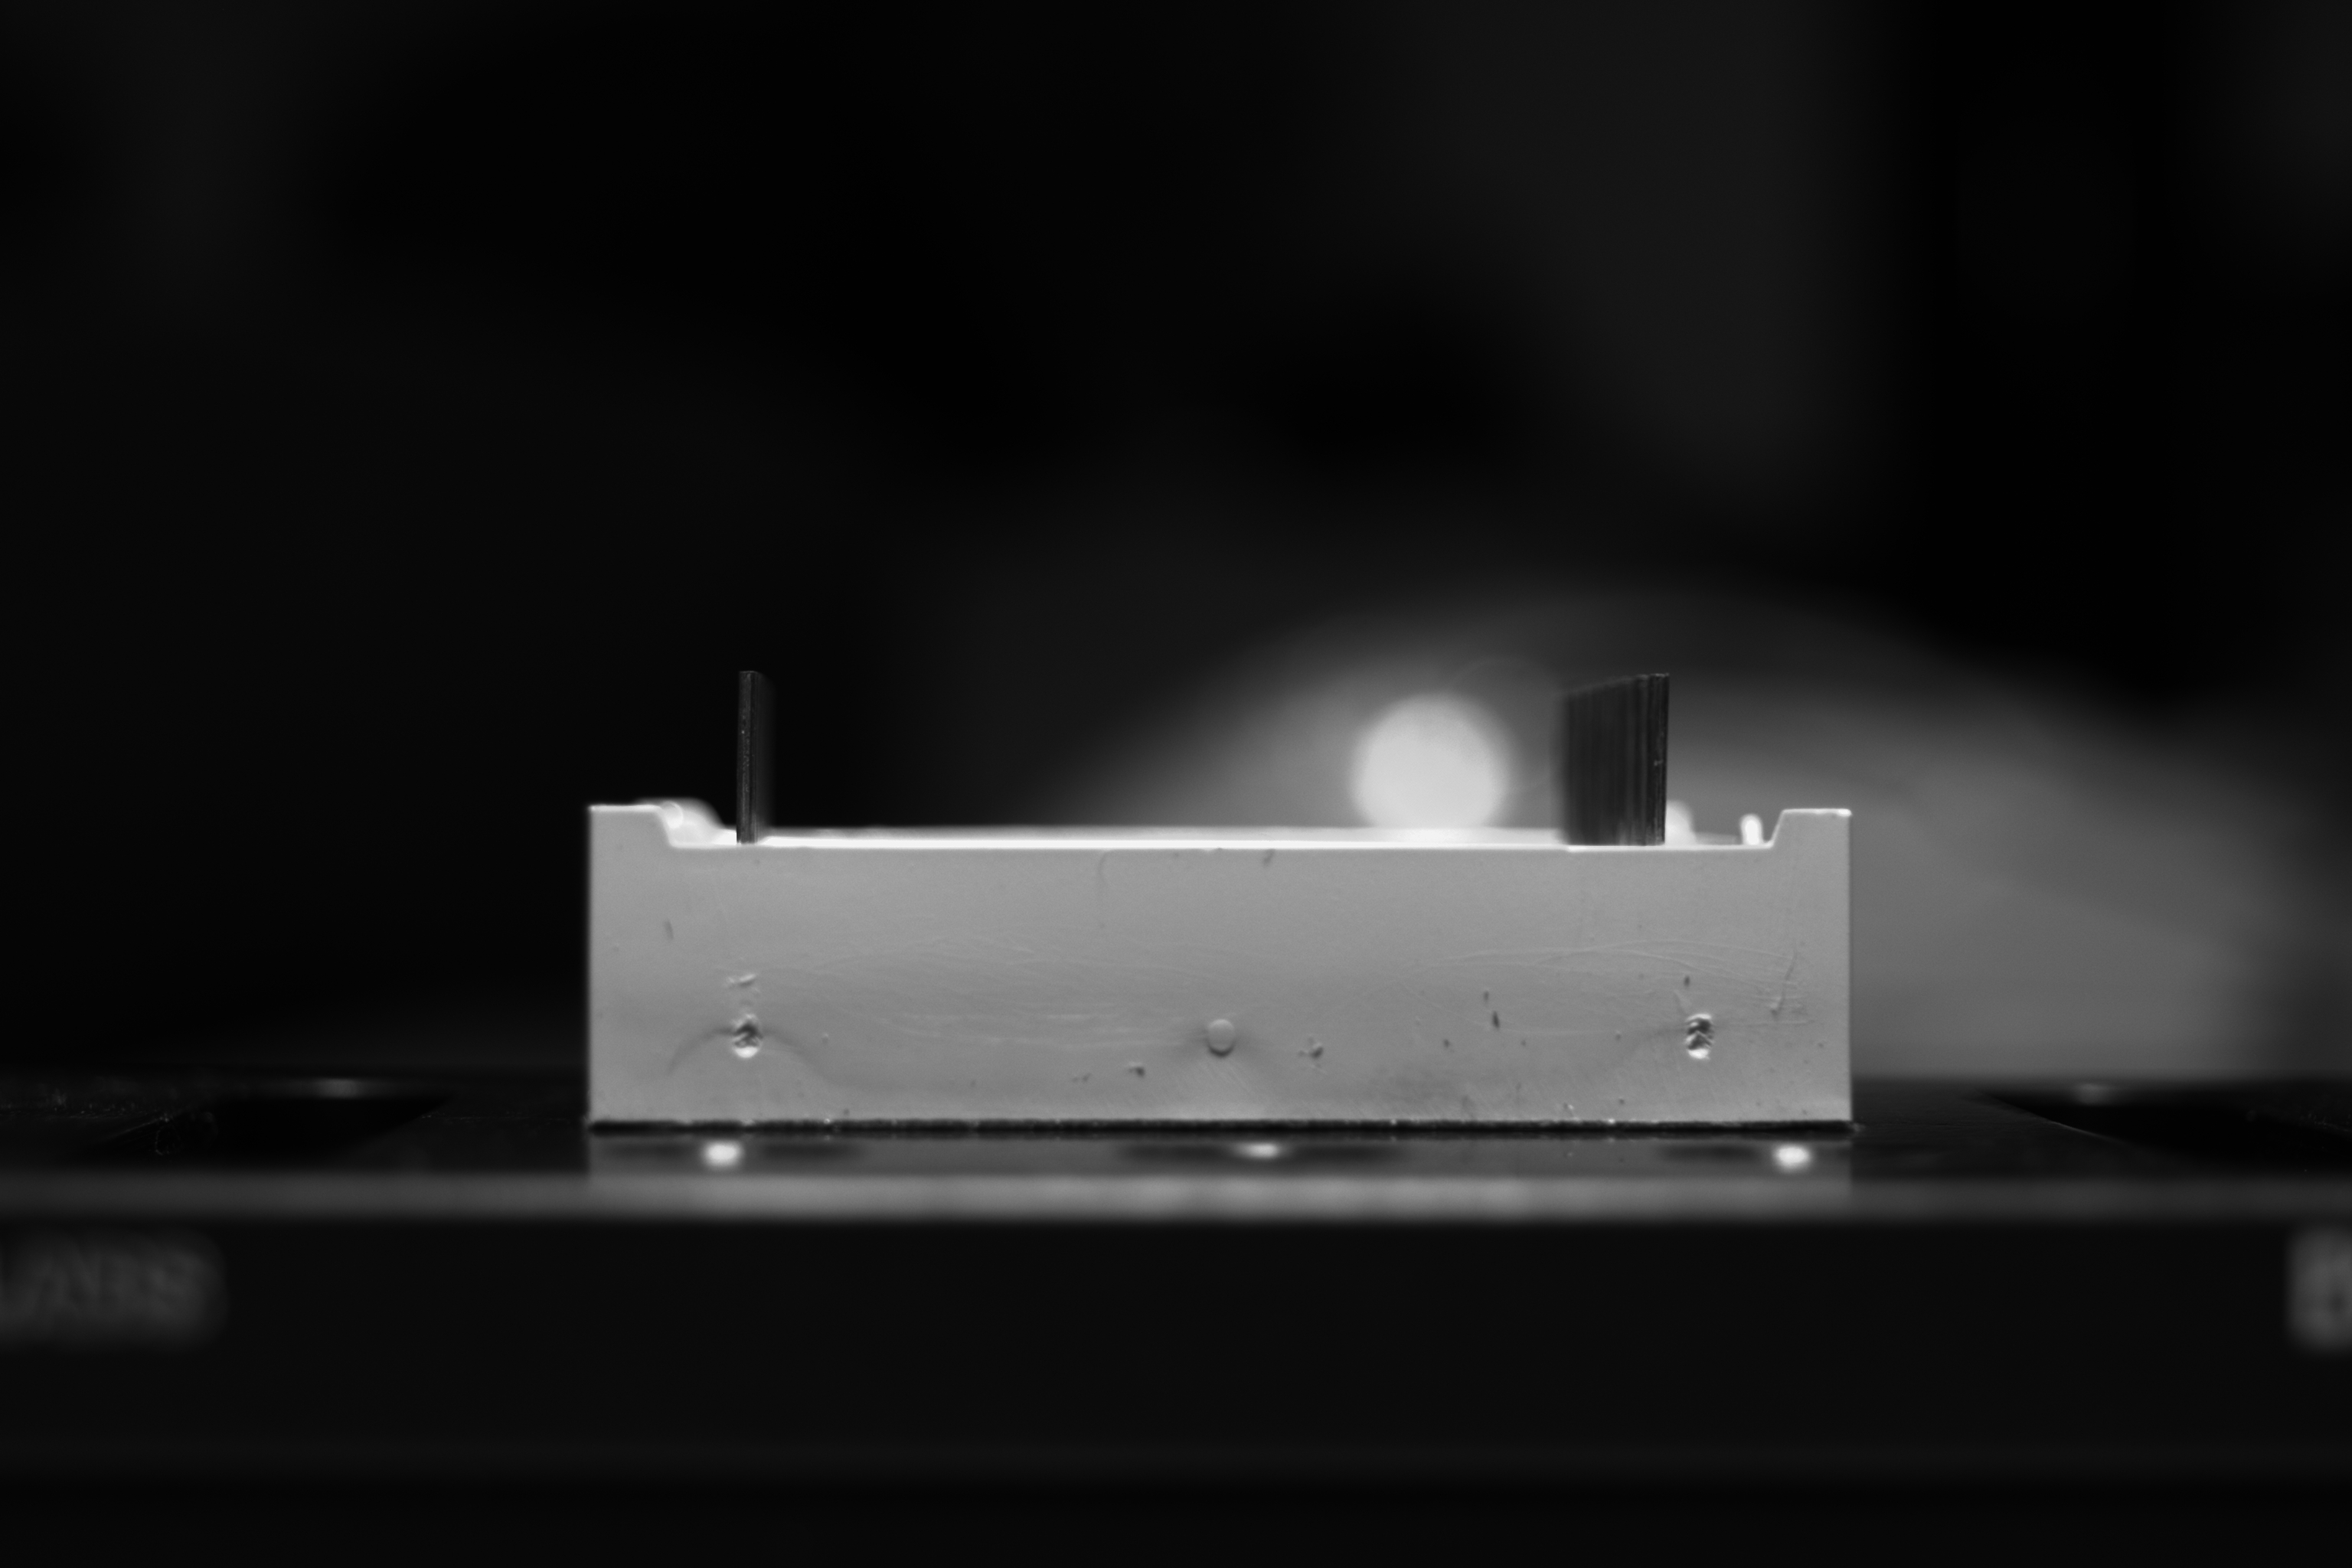Component: (581, 661, 1869, 1134)
Injection_hole: (728, 1011, 768, 1062), (1683, 1011, 1715, 1060)
